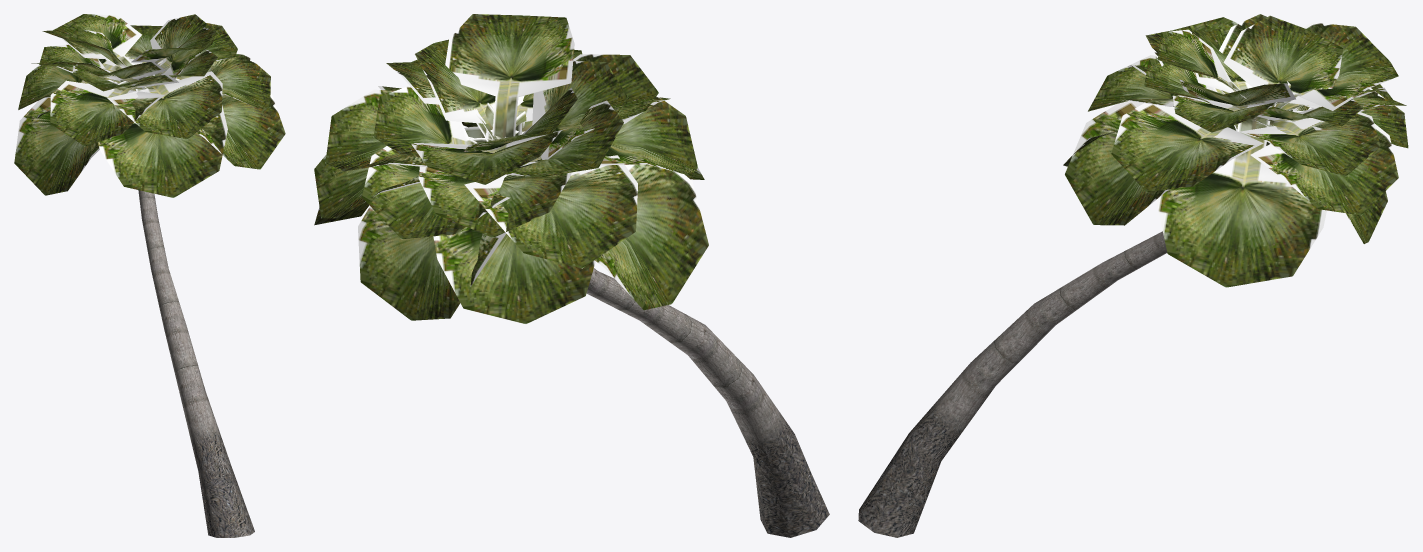
The model's file is palm_b.glb.
3 renders of one model, left to right at view 1: azimuth 30°, elevation 25°; view 2: azimuth 150°, elevation 25°; view 3: azimuth 270°, elevation 25°, orthographic. The views are drawn at different scales.
Visible parts, largest first — view 1: tree; view 2: tree; view 3: tree.
Part boxes in pixels (x1,y1,x2,y2): tree: [14, 14, 285, 537]; tree: [314, 14, 829, 537]; tree: [858, 14, 1408, 537].
Size of the model in its own units: 5.78 by 10 by 9.48.
2 materials, 2 textured.
